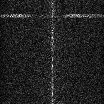wifi: (1, 13, 104, 17)
